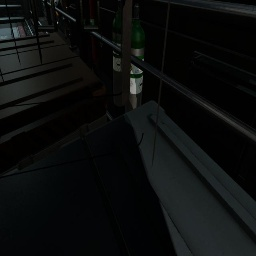0: (125, 3, 145, 113), (112, 0, 122, 107)
NitrogenTank ,: (78, 0, 99, 79), (97, 0, 102, 78)
